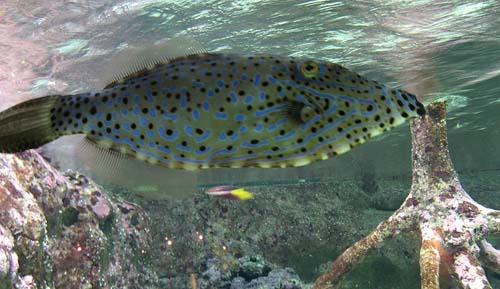fish: (1, 51, 425, 171)
